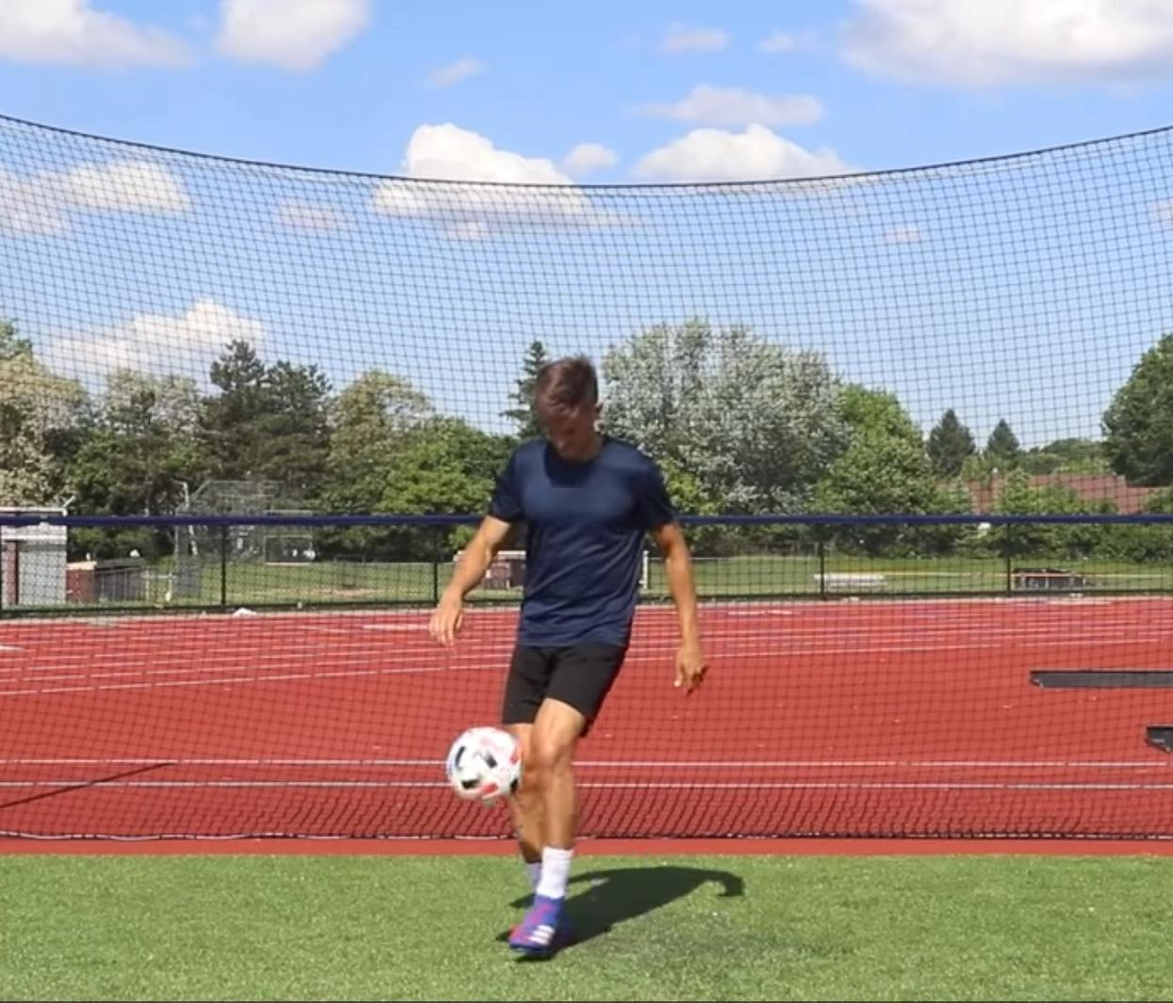ball: (445, 724, 523, 800)
foot: (505, 892, 564, 956)
person: (429, 354, 707, 954)
